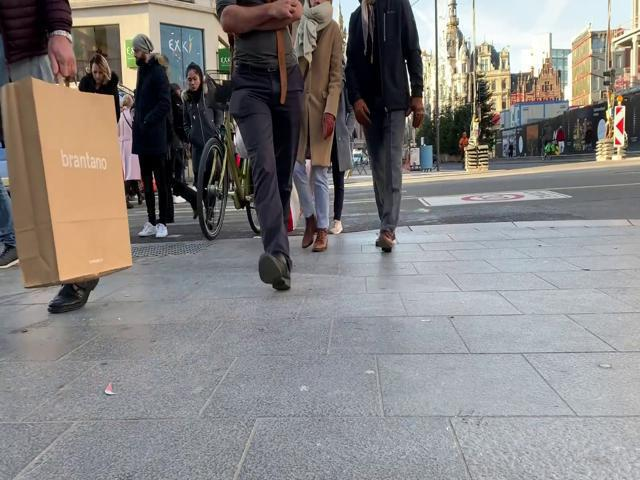shoe: (48, 276, 97, 313), (259, 253, 292, 291), (301, 216, 315, 248), (376, 230, 394, 254), (314, 229, 328, 252), (138, 222, 155, 237), (157, 224, 168, 238)
